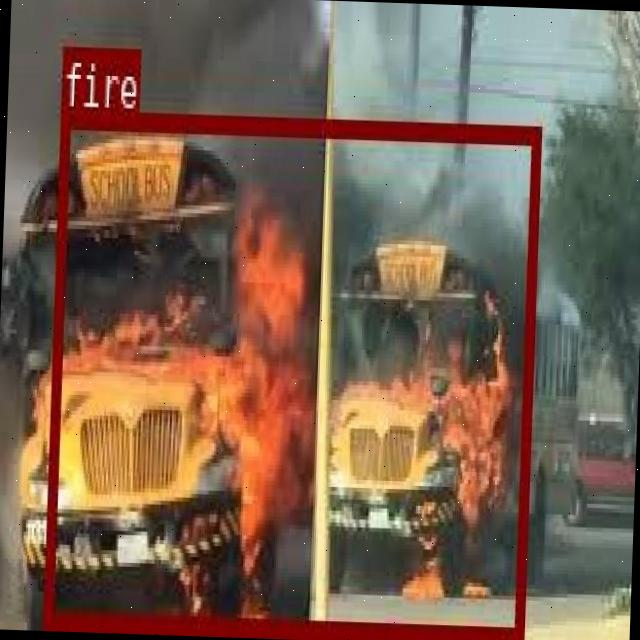fire: (42, 107, 538, 639)
